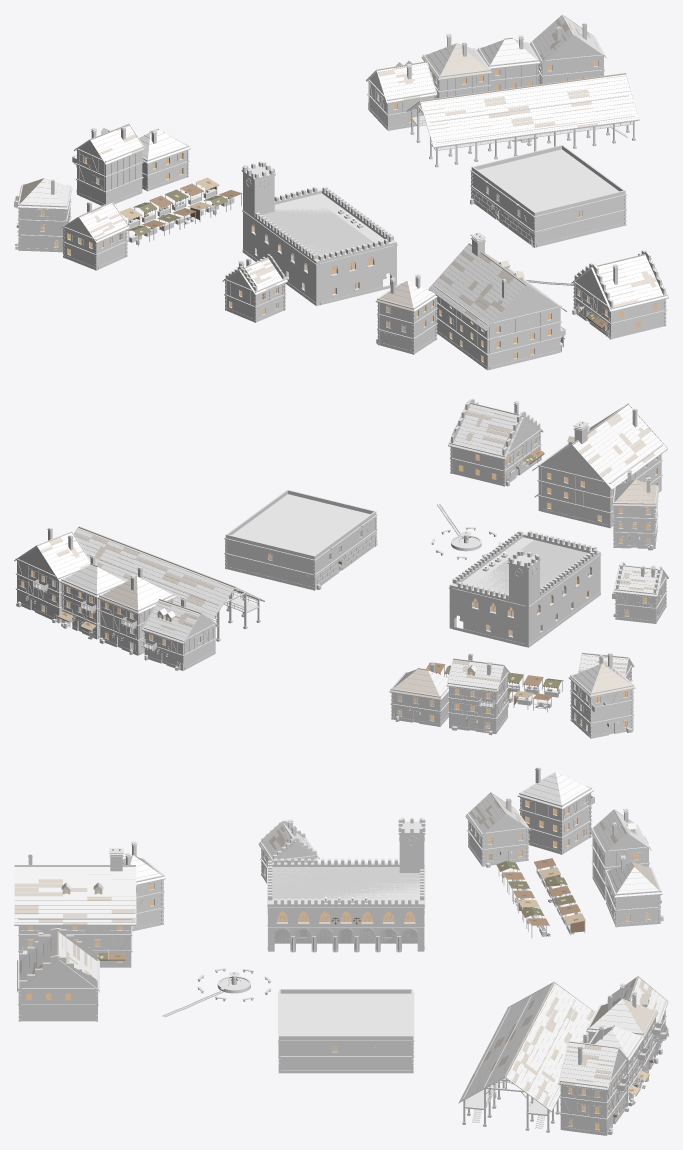
The model's file is concordia_mercado.glb.
3 renders of one model, top to bottom at view 1: azimuth 30°, elevation 25°; view 2: azimuth 150°, elevation 25°; view 3: azimuth 270°, elevation 25°, orthographic. The views are drawn at different scales.
Visible parts, largest first — view 1: GranSubasta_Roof, TesoreriaMuralla_Body, Posada_Body, Banco_Roof, Posada_Roof, Banco_Body, CasaRegistro_Body, MER_Casa_03_Body, TesoreriaMuralla_InteriorVolume, MER_Casa_01_Body, CasaRegistro_Roof, GranSubasta_Body (+19 smaller); view 2: TesoreriaMuralla_Body, Banco_Roof, Posada_Body, GranSubasta_Roof, Banco_Body, Posada_Roof, CasaRegistro_Body, MER_Casa_08_Body, CasaRegistro_Roof, MER_Casa_03_Body, MER_Casa_07_Body, MER_Casa_04_Body (+19 smaller); view 3: TesoreriaMuralla_Body, GranSubasta_Roof, Posada_Roof, Banco_Roof, TesoreriaMuralla_InteriorVolume, CasaRegistro_Body, Banco_Body, MER_Casa_07_Body, MER_Casa_08_Body, Posada_Body, MER_Casa_07_Roof, MER_Casa_10_Body (+19 smaller).
Boxes of the visible parts, <box> form: GranSubasta_Roof: <box>406,73,639,148</box>; TesoreriaMuralla_Body: <box>241,161,397,305</box>; Posada_Body: <box>433,267,565,370</box>; Banco_Roof: <box>471,145,625,216</box>; Posada_Roof: <box>428,232,566,331</box>; Banco_Body: <box>470,170,626,247</box>; CasaRegistro_Body: <box>573,250,667,339</box>; MER_Casa_03_Body: <box>72,141,143,205</box>; TesoreriaMuralla_InteriorVolume: <box>262,207,372,258</box>; MER_Casa_01_Body: <box>377,283,437,354</box>; CasaRegistro_Roof: <box>571,253,668,312</box>; GranSubasta_Body: <box>410,95,635,167</box>; TesoreriaMuralla_Body: <box>449,531,601,647</box>; Banco_Roof: <box>225,489,376,559</box>; Posada_Body: <box>537,443,662,528</box>; GranSubasta_Roof: <box>73,526,264,620</box>; Banco_Body: <box>224,514,377,590</box>; Posada_Roof: <box>532,403,667,490</box>; CasaRegistro_Body: <box>449,399,541,486</box>; MER_Casa_08_Body: <box>570,666,634,738</box>; CasaRegistro_Roof: <box>448,400,543,459</box>; MER_Casa_03_Body: <box>448,668,509,733</box>; MER_Casa_07_Body: <box>15,546,87,623</box>; MER_Casa_04_Body: <box>141,614,216,670</box>; TesoreriaMuralla_Body: <box>267,817,425,952</box>; GranSubasta_Roof: <box>458,981,595,1112</box>; Posada_Roof: <box>14,848,136,925</box>; Banco_Roof: <box>279,989,413,1039</box>; TesoreriaMuralla_InteriorVolume: <box>272,867,419,943</box>; CasaRegistro_Body: <box>18,928,98,1021</box>; Banco_Body: <box>278,992,414,1073</box>; MER_Casa_07_Body: <box>559,1051,628,1135</box>; MER_Casa_08_Body: <box>519,775,594,854</box>; Posada_Body: <box>18,917,132,967</box>; MER_Casa_07_Roof: <box>558,1033,628,1090</box>; MER_Casa_10_Body: <box>467,807,529,866</box>.
Size of what is drawn, in the model's own units: 134 by 21.86 by 117.
Materials: 16 (13 with a texture image).
